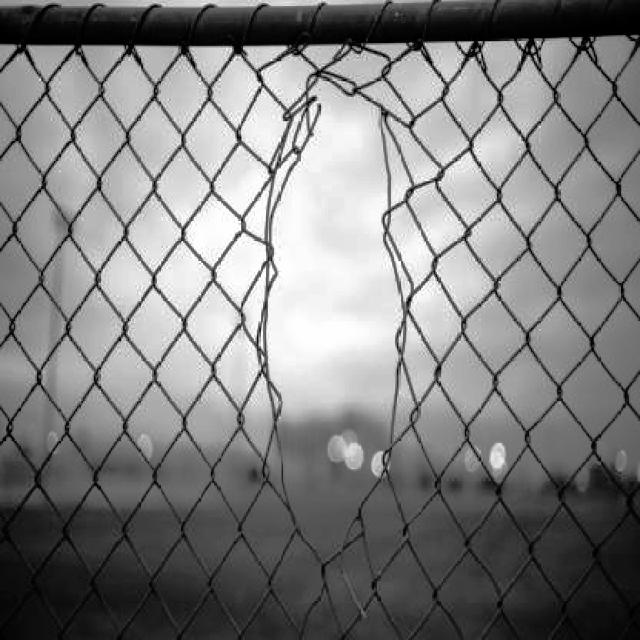anomaly-fence: (202, 63, 469, 566)
